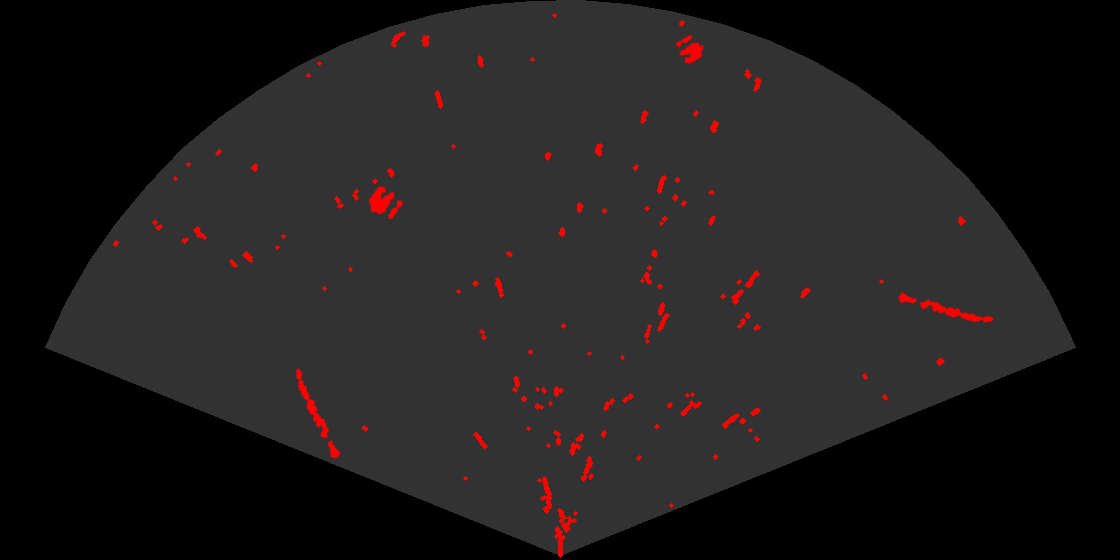ball: (367, 185, 404, 221), (674, 33, 705, 66)
chain: (294, 367, 342, 460), (896, 291, 995, 324)
